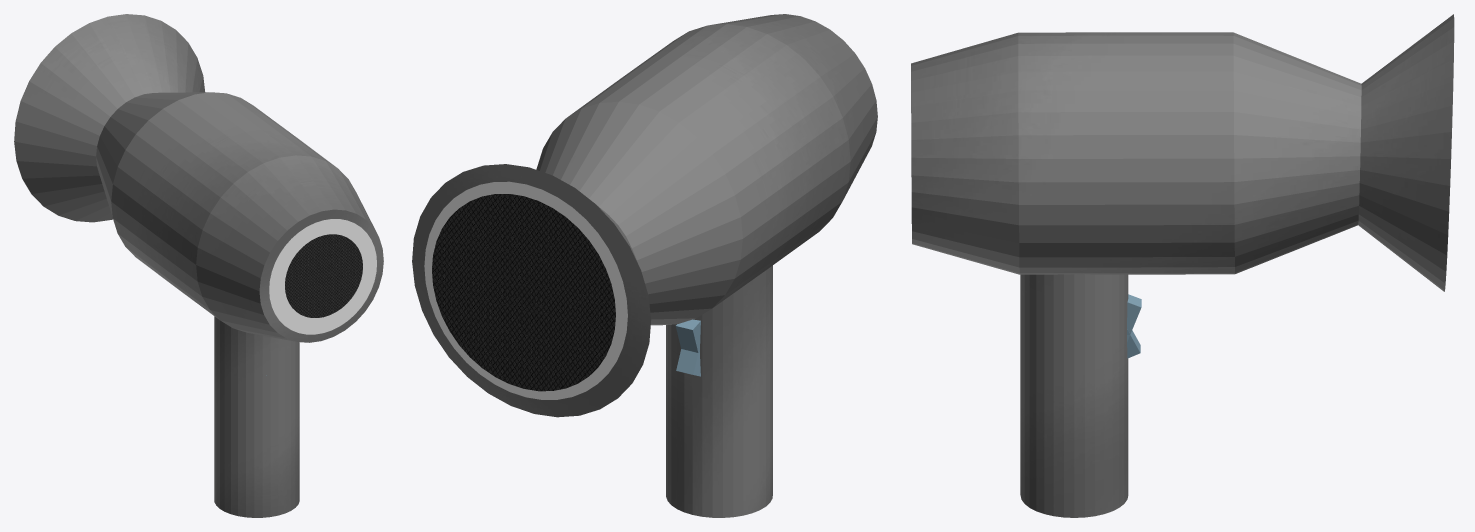
The model's file is blower_big_fix.fbx.
3 views of the same model, side by side, from view 1: azimuth 30°, elevation 25°; view 2: azimuth 150°, elevation 25°; view 3: azimuth 270°, elevation 25° (orthographic). The views are drawn at different scales.
Parts seen in each view (by area): view 1: 柱体.002, 柱体, 圆环.003, 圆环.002; view 2: 柱体.002, 圆环.001, 柱体, 圆环, 立方体, 立方体.001; view 3: 柱体.002, 柱体.
Boxes of the visible parts, bbox=[...] form: 柱体.002: bbox=[14, 14, 383, 342]; 柱体: bbox=[214, 316, 299, 517]; 圆环.003: bbox=[285, 234, 362, 317]; 圆环.002: bbox=[269, 219, 376, 334]; 柱体.002: bbox=[412, 14, 877, 417]; 圆环.001: bbox=[432, 194, 615, 391]; 柱体: bbox=[666, 265, 772, 517]; 圆环: bbox=[424, 181, 627, 399]; 立方体: bbox=[675, 319, 700, 352]; 立方体.001: bbox=[676, 349, 700, 376]; 柱体.002: bbox=[911, 14, 1454, 291]; 柱体: bbox=[1020, 274, 1128, 517].
Bounding box in the file's own units: 247 × 460 × 493.
